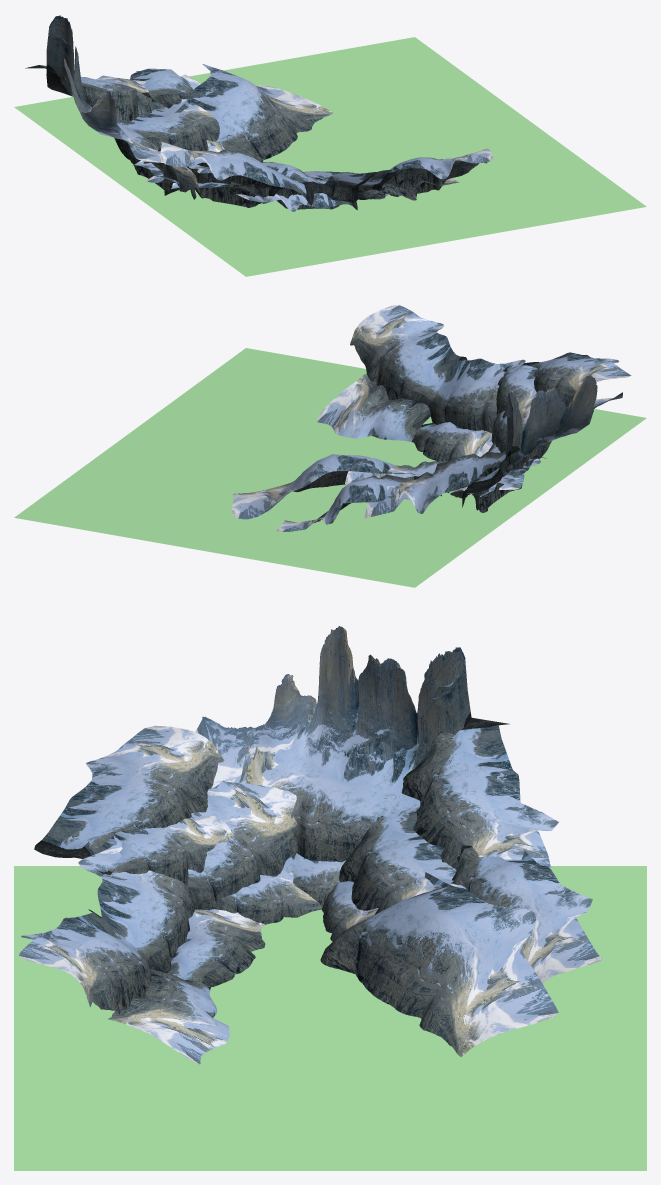
File: Torres del paine.fbx
The picture shows the model from 3 angles, top to bottom: view 1: azimuth 30°, elevation 25°; view 2: azimuth 150°, elevation 25°; view 3: azimuth 270°, elevation 25°; orthographic projection. The views are drawn at different scales.
Visible parts, largest first — view 1: Plane.004, Plane.012, Plane, Plane.013, Plane.002, Plane.015, Plane.003, Plane.010, Plane.011, Plane.001, Plane.009, Plane.014 (+1 smaller); view 2: Plane.004, Plane.015, Plane, Plane.014, Plane.010, Plane.003, Plane.012, Plane.013, Plane.009, Plane.011, Plane.008, Plane.002 (+2 smaller); view 3: Plane.004, Plane, Plane.012, Plane.003, Plane.013, Plane.011, Plane.001, Plane.010, Plane.015, Plane.002, Plane.014, Plane.008 (+4 smaller).
Boxes of the visible parts, x1,y1,x2,y2 form: Plane.004: [14, 37, 646, 276]; Plane.012: [175, 64, 332, 162]; Plane: [46, 15, 199, 195]; Plane.013: [158, 142, 313, 205]; Plane.002: [117, 98, 219, 150]; Plane.015: [351, 148, 492, 198]; Plane.003: [25, 65, 166, 121]; Plane.010: [230, 169, 395, 209]; Plane.011: [130, 68, 200, 108]; Plane.001: [143, 147, 294, 207]; Plane.009: [236, 193, 357, 211]; Plane.014: [358, 178, 458, 200]; Plane.004: [14, 348, 646, 587]; Plane.015: [350, 305, 467, 405]; Plane: [462, 375, 622, 512]; Plane.014: [317, 374, 430, 442]; Plane.010: [427, 358, 537, 432]; Plane.003: [364, 446, 520, 518]; Plane.012: [232, 454, 441, 519]; Plane.013: [533, 352, 631, 407]; Plane.009: [413, 422, 492, 461]; Plane.011: [276, 474, 419, 531]; Plane.008: [496, 362, 541, 422]; Plane.002: [345, 461, 508, 486]; Plane.004: [14, 866, 646, 1170]; Plane: [195, 626, 471, 862]; Plane.012: [320, 872, 558, 1056]; Plane.003: [401, 717, 558, 870]; Plane.013: [34, 725, 224, 858]; Plane.011: [451, 845, 603, 983]; Plane.001: [187, 780, 297, 909]; Plane.010: [78, 835, 194, 972]; Plane.015: [19, 909, 151, 1013]; Plane.002: [339, 812, 466, 914]; Plane.014: [108, 969, 229, 1064]; Plane.008: [79, 814, 233, 886].
Bounding box in the file's own units: 18545 × 7971 × 15915.
2 materials, 1 textured.
